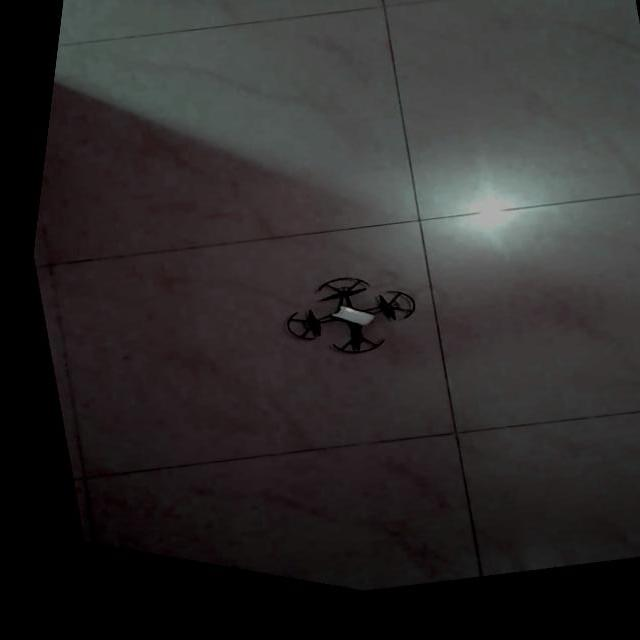drone: (280, 291, 409, 367)
